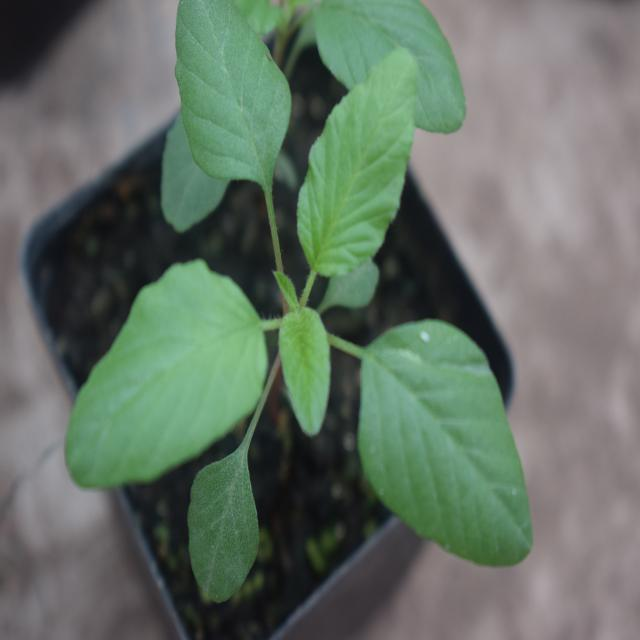pigweed: (89, 4, 530, 568)
